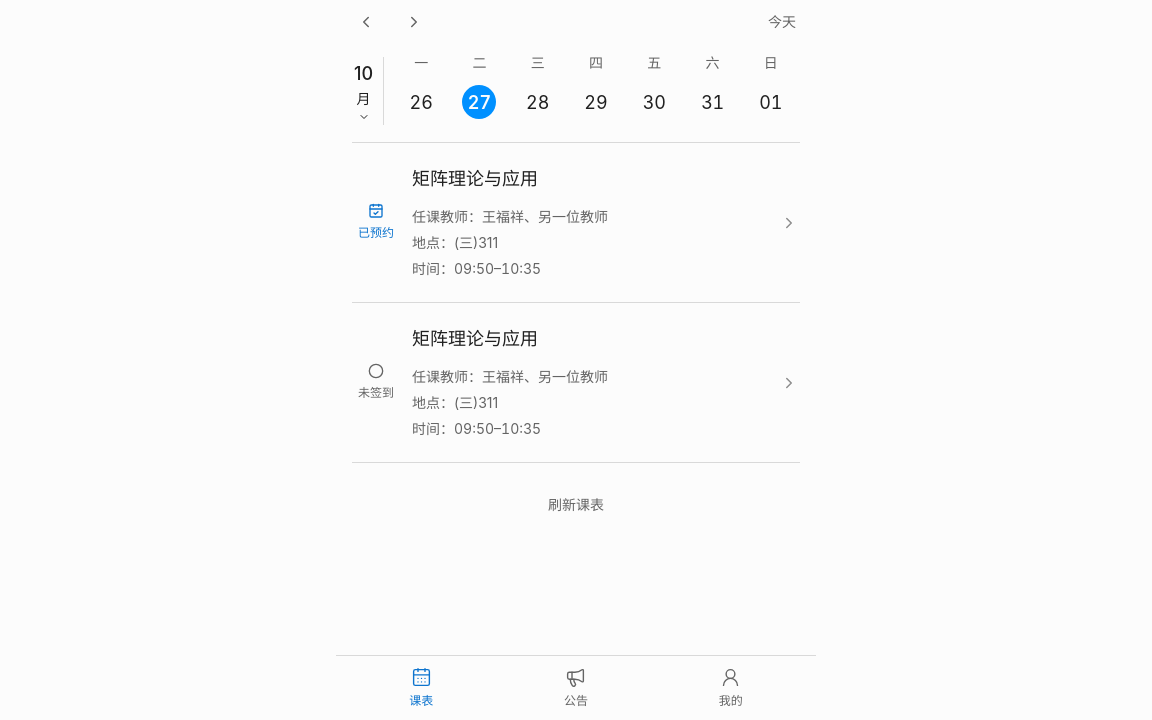
Test: mobile routes and course interactions › refreshes a reserved course after manual sign-in and when returning to the schedule
Click the button "已预约". click: (576, 223)
box: 352,143 -> 800,302
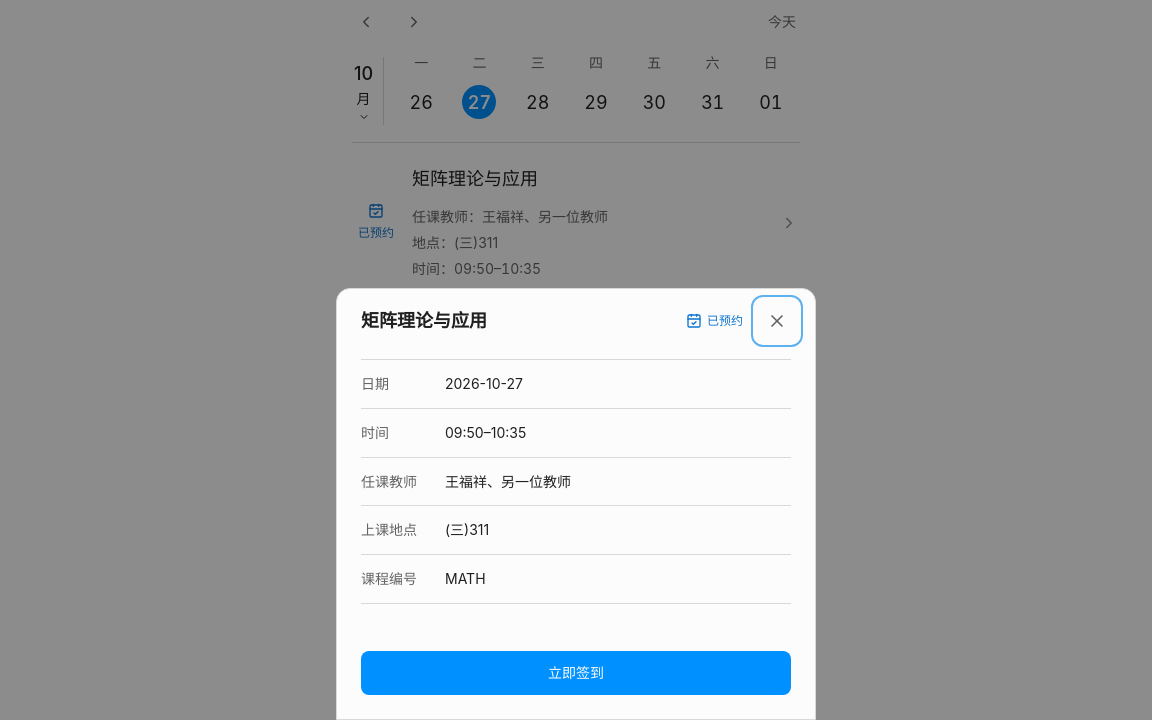
Expected: the button "立即签到" is enabled
Click the button "立即签到". click: (576, 673)
box: 361,651 -> 791,695
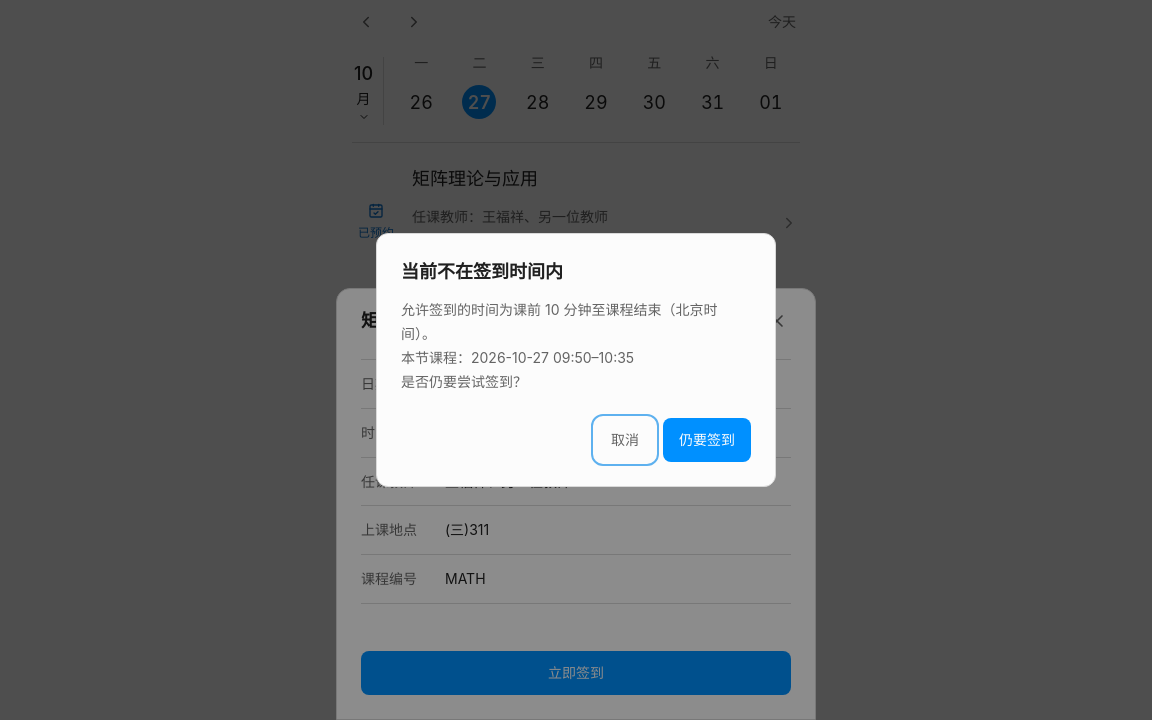
Click the button "仍要签到". click: (707, 440)
box: 663,418 -> 751,462
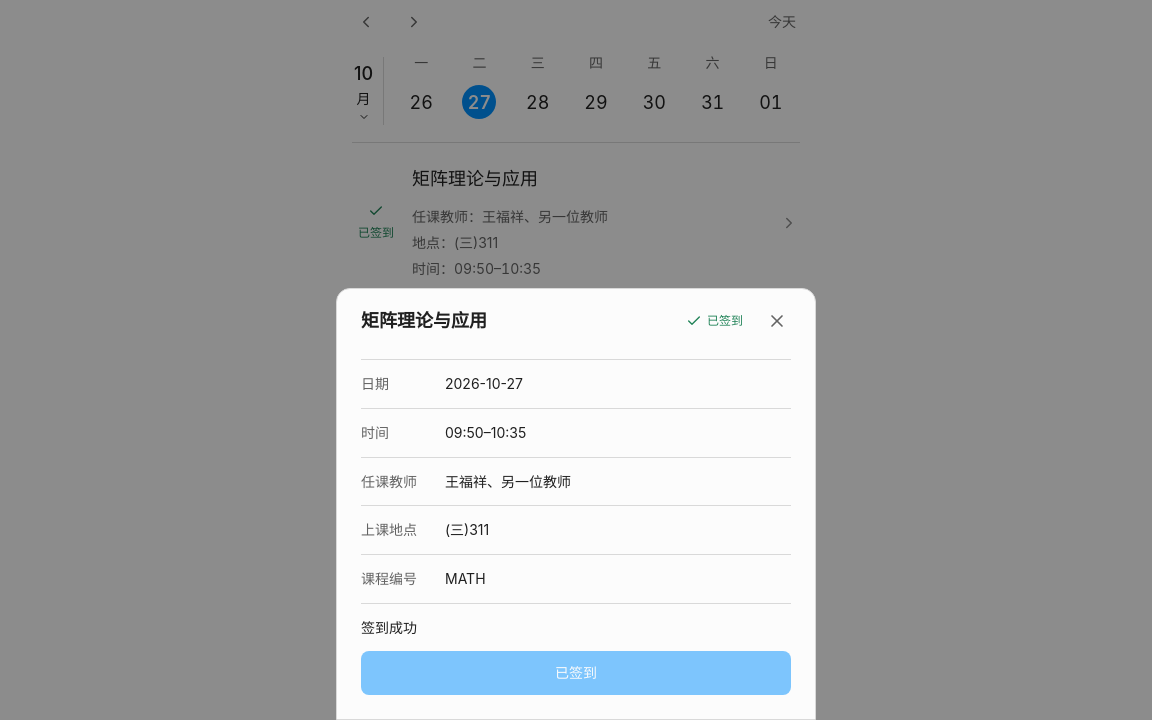
Expected: the element with class "detail-status" reads "已签到", 707,313 -> 743,328
Expected: the button "已预约" is gone
Click the button named "关闭课程详情". click: (777, 321)
box: 755,299 -> 799,343
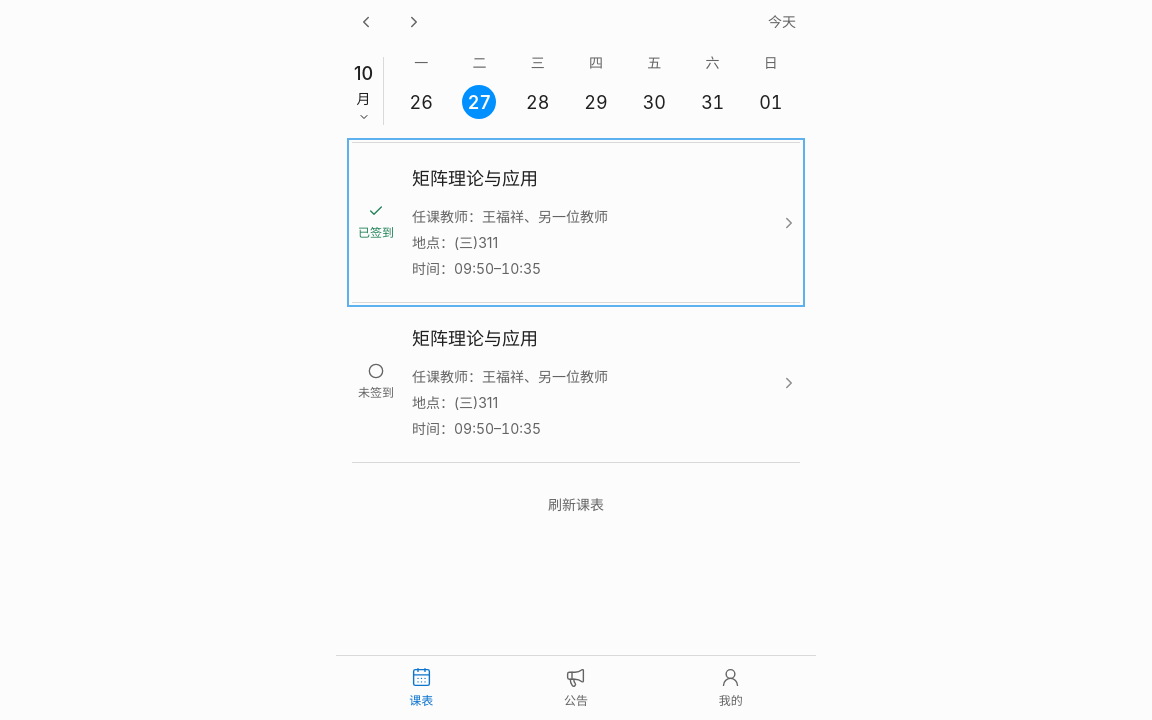
Expected: the button "已预约" is not shown
Expected: the element with class "course-status" reads "已签到", 358,225 -> 394,240
Expected: the dialog is gone
